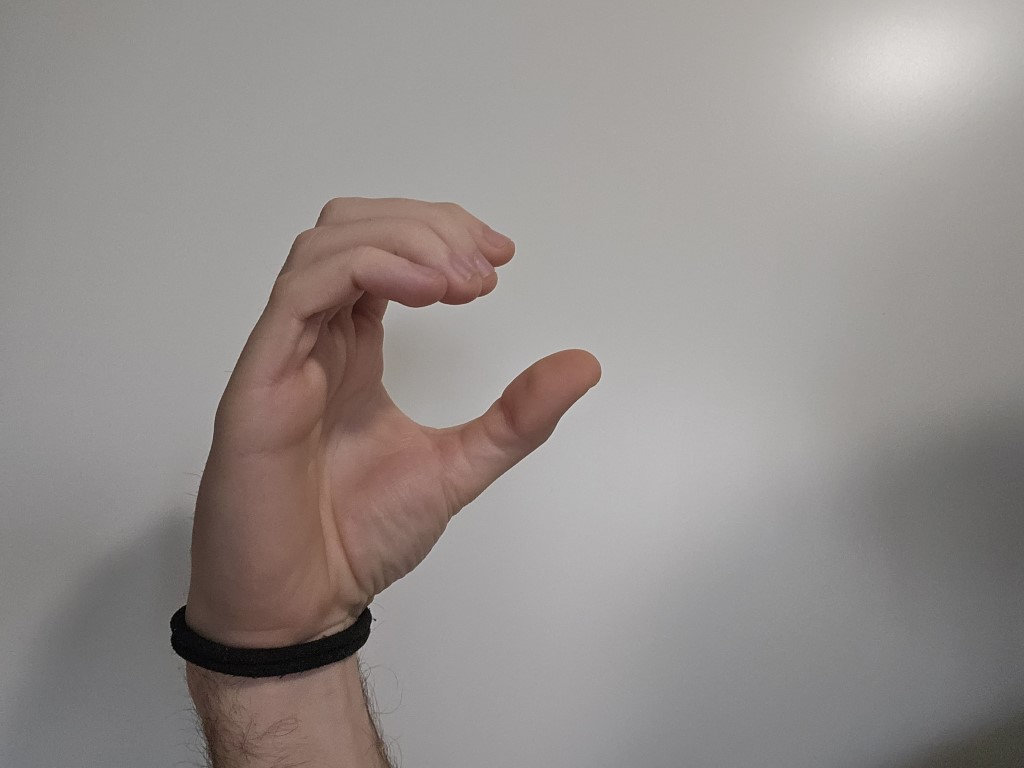c: (98, 147, 670, 629)
